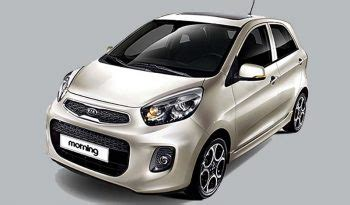car: (43, 1, 315, 200)
